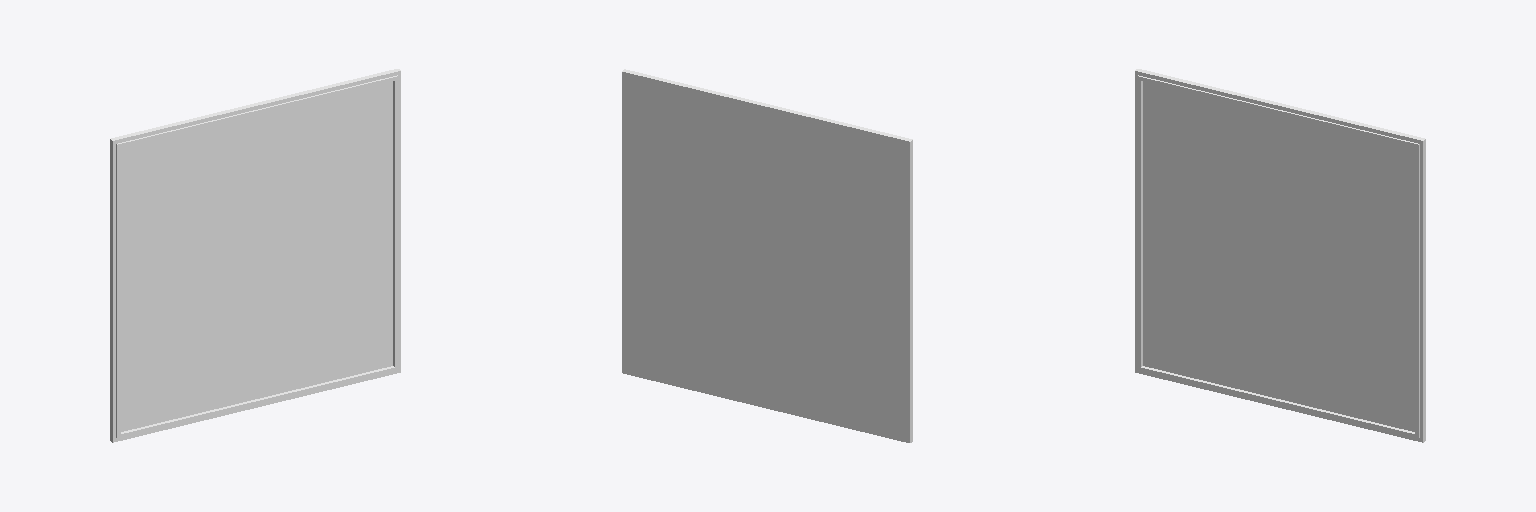
Rendered from emptyWall4-2-lod1.obj.
The picture shows the model from 3 angles: view 1: azimuth 30°, elevation 25°; view 2: azimuth 150°, elevation 25°; view 3: azimuth 330°, elevation 25°; orthographic projection.
Visible parts, largest first — view 1: lod1; view 2: lod1; view 3: lod1.
Part boxes in pixels (bbox=[...]): lod1: bbox=[110, 69, 400, 442]; lod1: bbox=[622, 69, 912, 442]; lod1: bbox=[1135, 69, 1425, 442].
Bounding box in the file's own units: 16 × 16 × 0.4.